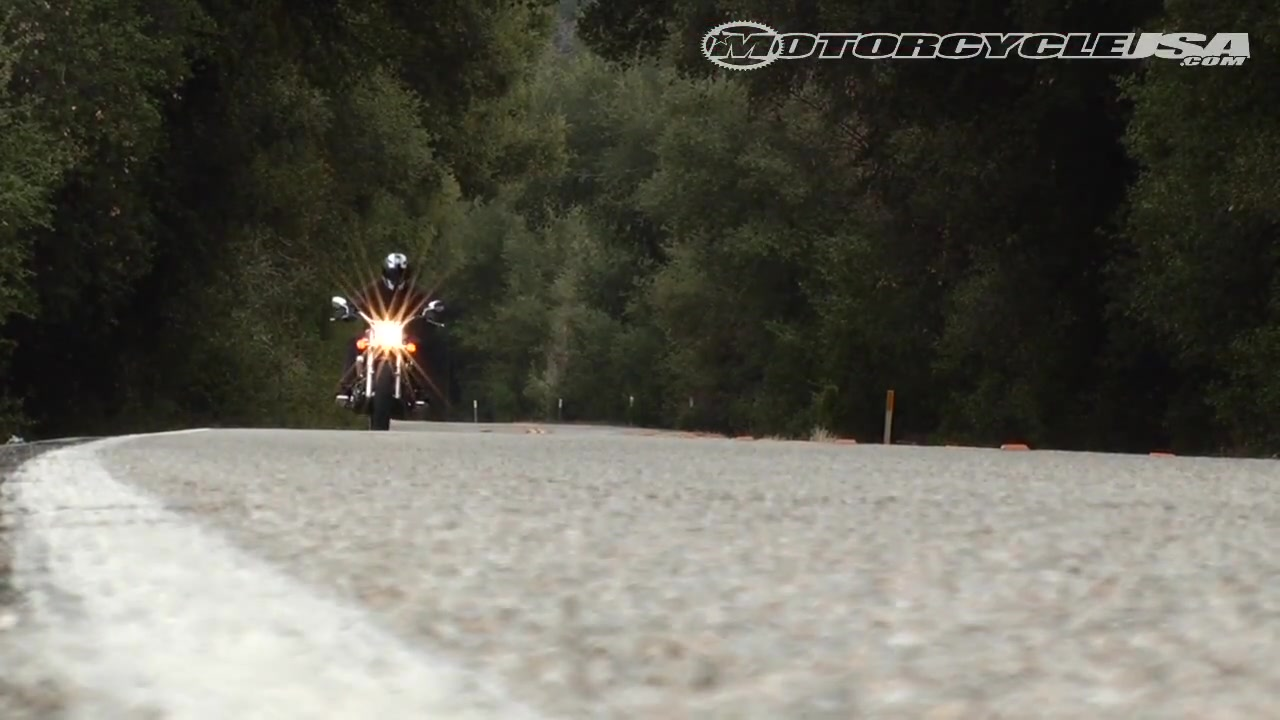motorbike: (329, 293, 448, 431)
